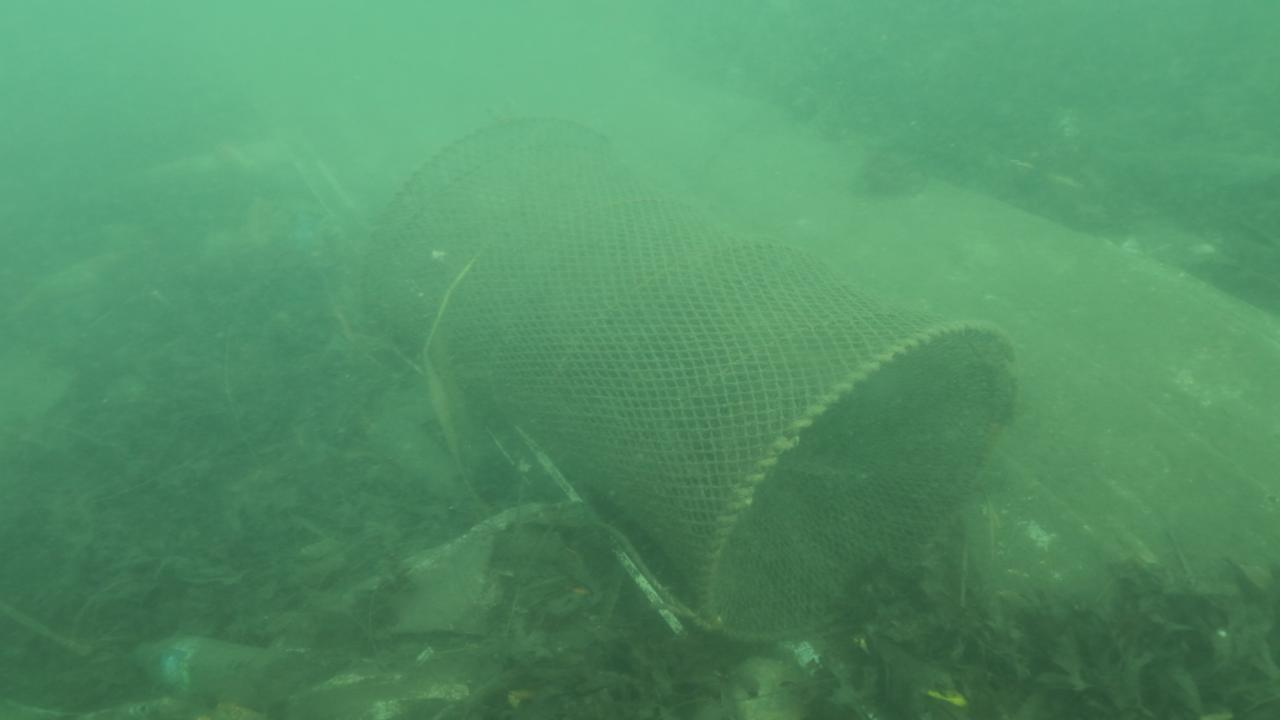spring fish trap: (361, 109, 1015, 645)
